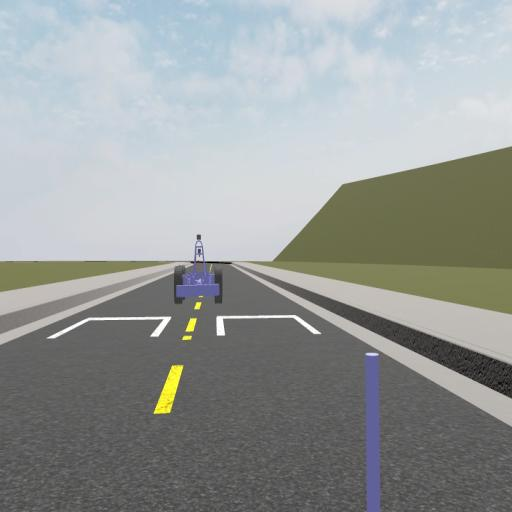ERP-42: (174, 232, 223, 302)
